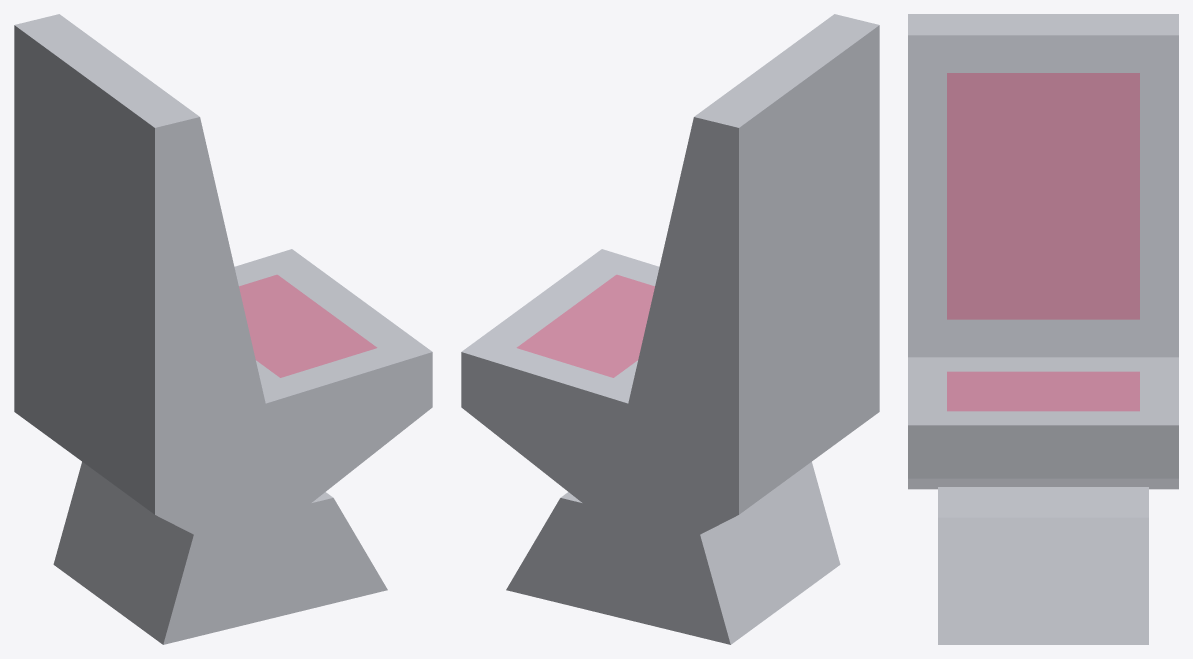
File: space-station-kit--object-057.glb
The picture shows the model from 3 angles, left to right: view 1: azimuth 30°, elevation 25°; view 2: azimuth 150°, elevation 25°; view 3: azimuth 270°, elevation 25°; orthographic projection. The views are drawn at different scales.
Parts seen in each view (by area): view 1: object_057; view 2: object_057; view 3: object_057.
Boxes of the visible parts, x1=… form: object_057: x1=14, y1=14, x2=432, y2=644; object_057: x1=461, y1=14, x2=879, y2=644; object_057: x1=908, y1=14, x2=1178, y2=644.
Bounding box in the file's own units: 0.2911 × 0.5348 × 0.2553.
